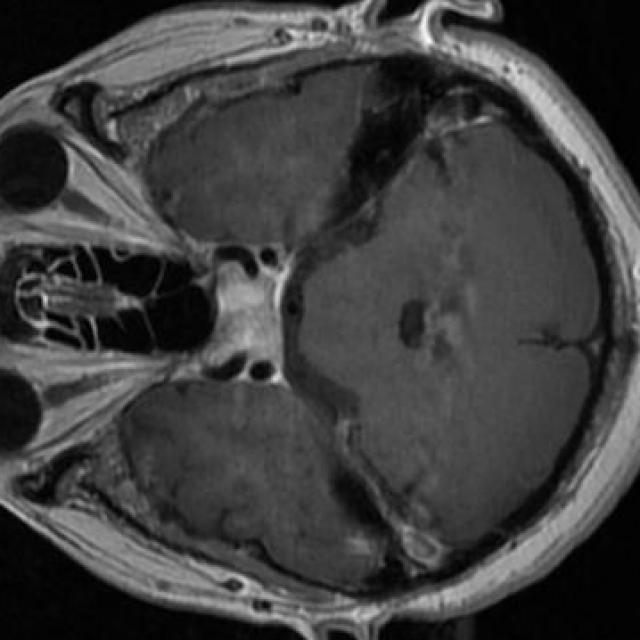pituitary: (200, 262, 285, 365)
